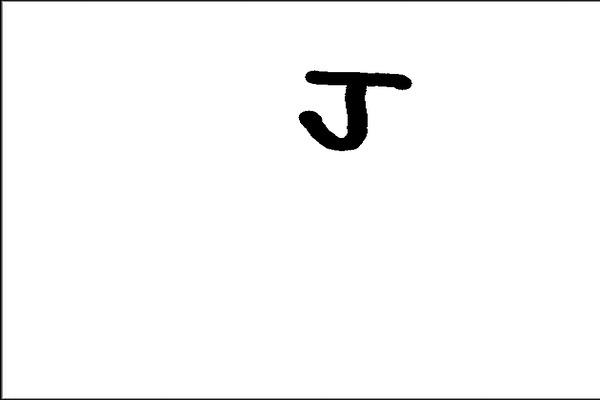J: (290, 58, 419, 159)
